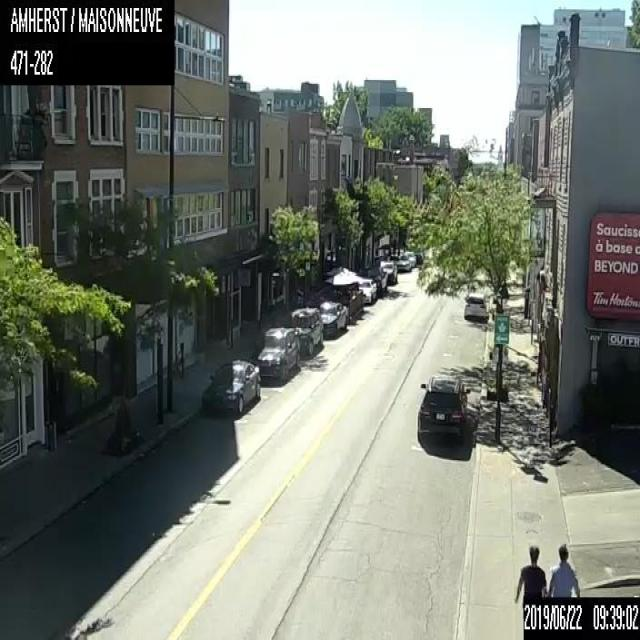pedestrian: (512, 544, 547, 603), (547, 543, 581, 602)
vehicle: (416, 371, 471, 444), (200, 359, 260, 412), (248, 326, 299, 380), (286, 307, 322, 354), (311, 300, 347, 335), (463, 290, 487, 321), (360, 265, 387, 292), (354, 277, 376, 302), (376, 260, 397, 282), (402, 250, 416, 266), (396, 254, 410, 270)
